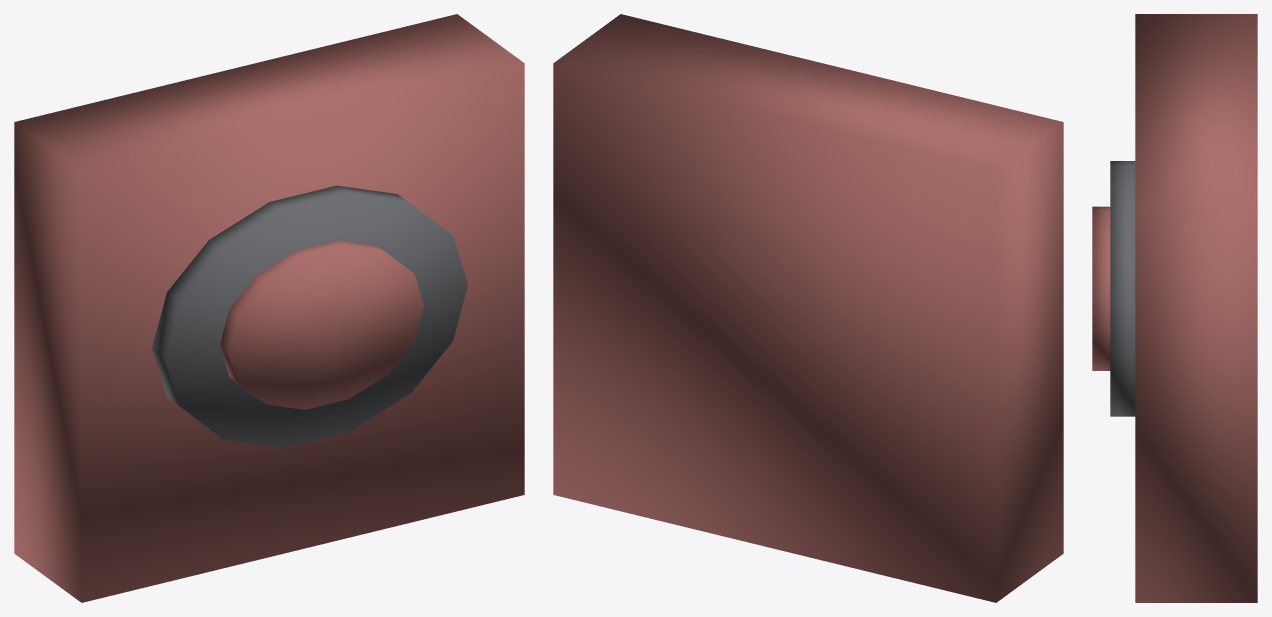
Rendered from fire_hose_rack__squat.glb.
3 renders of one model, left to right at view 1: azimuth 30°, elevation 25°; view 2: azimuth 150°, elevation 25°; view 3: azimuth 270°, elevation 25°, orthographic. The views are drawn at different scales.
Parts seen in each view (by area): view 1: world; view 2: world; view 3: world.
Boxes of the visible parts, x1,y1,x2,y2 form: world: (14, 14, 524, 602); world: (553, 14, 1063, 602); world: (1092, 14, 1257, 602).
Size of the model in its own units: 0.902 by 0.84 by 0.3213.
